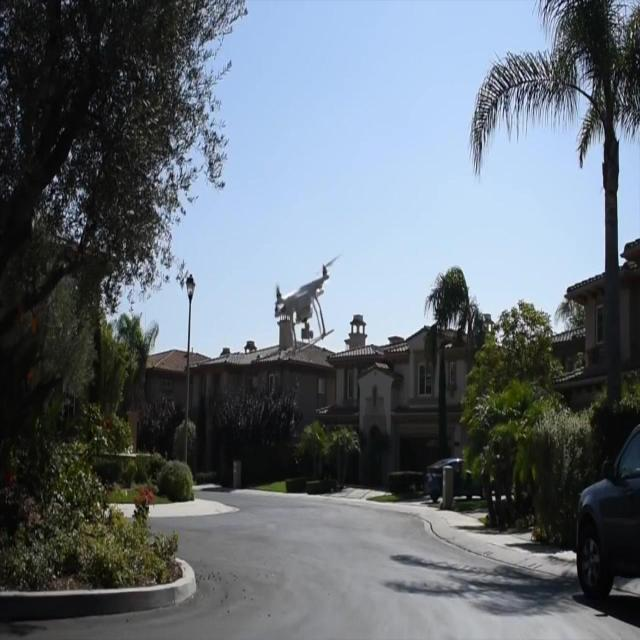drone: (274, 262, 336, 361)
